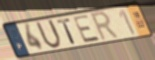1: (119, 8, 137, 36)
4: (23, 22, 45, 53)
E: (71, 13, 102, 44)
R: (89, 10, 122, 43)
T: (56, 17, 78, 46)
U: (34, 19, 64, 51)
